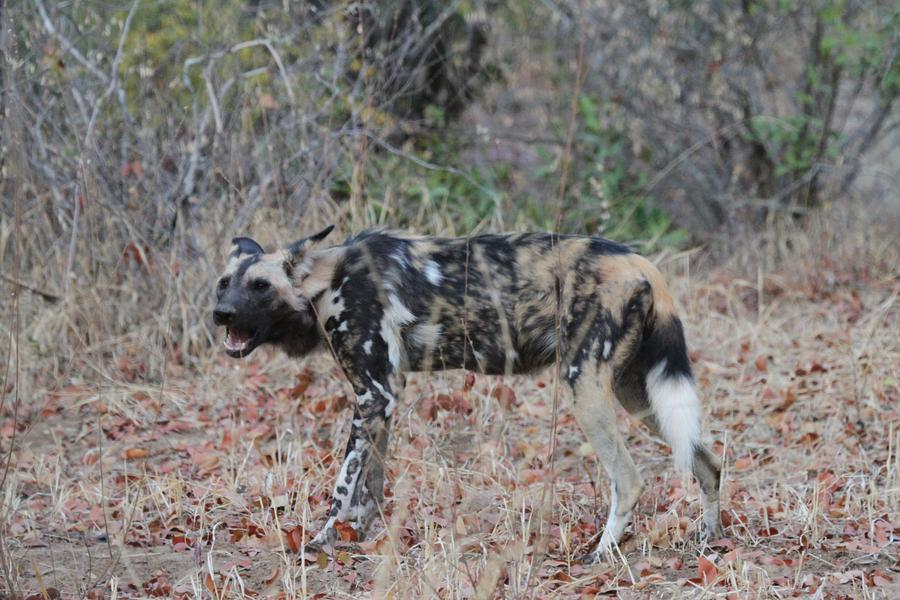wilddog: (197, 211, 686, 391)
